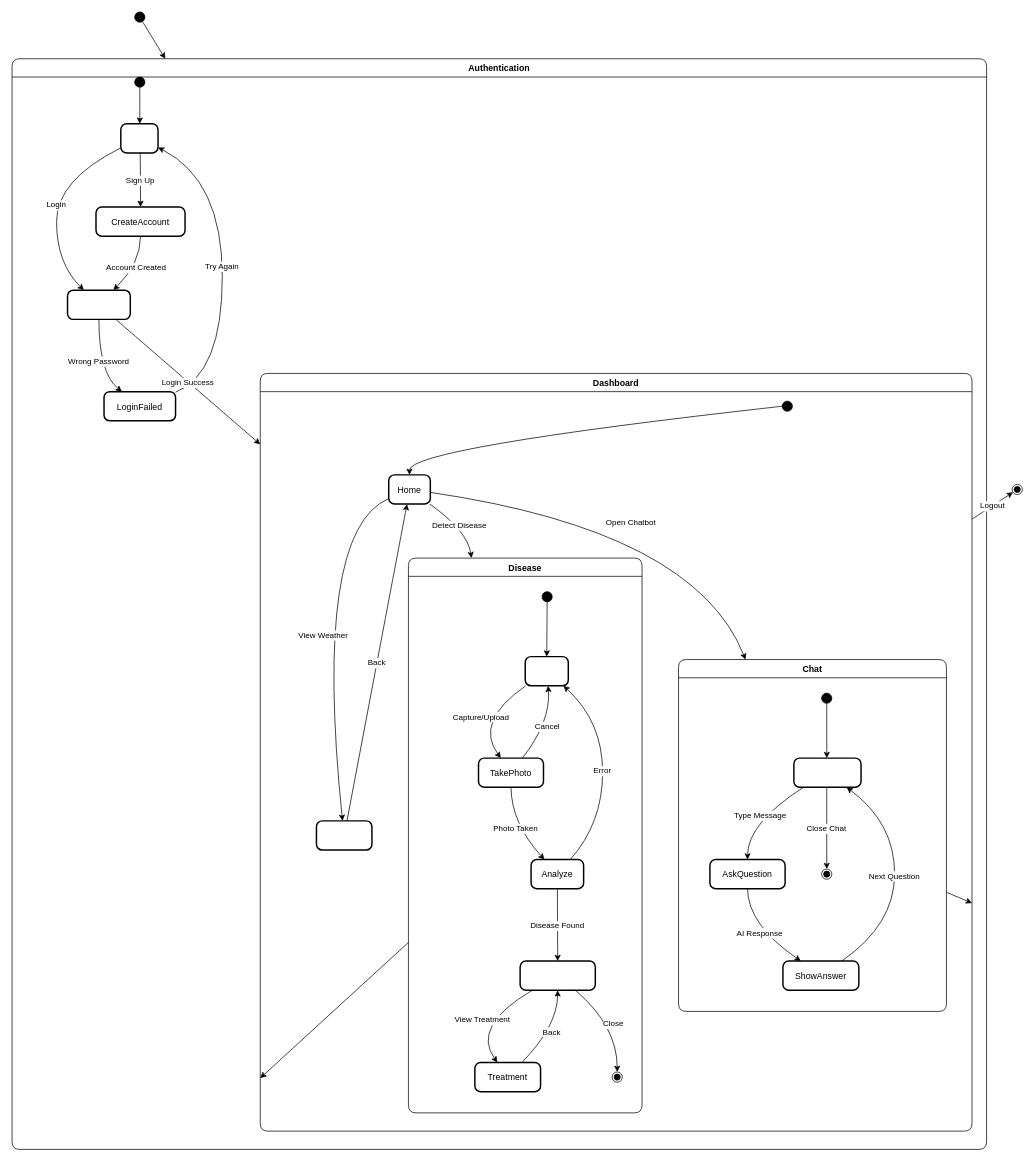
Image size: 1034x1161. Some labels were removed from this diagram. Each missing label, with the centre of its shape:
ChatReady: the point at 827,772
LoginUser: the point at 98,304
Ready: the point at 546,671
ShowResults: the point at 557,975
Start: the point at 139,138
Weather: the point at 343,835
